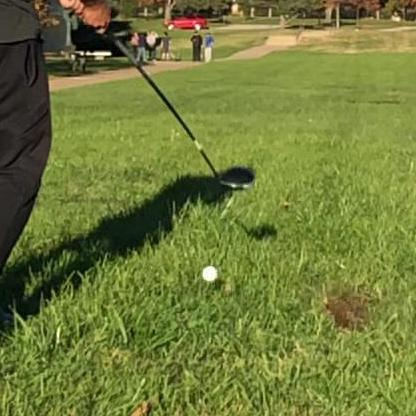golfball: (200, 262, 215, 279)
